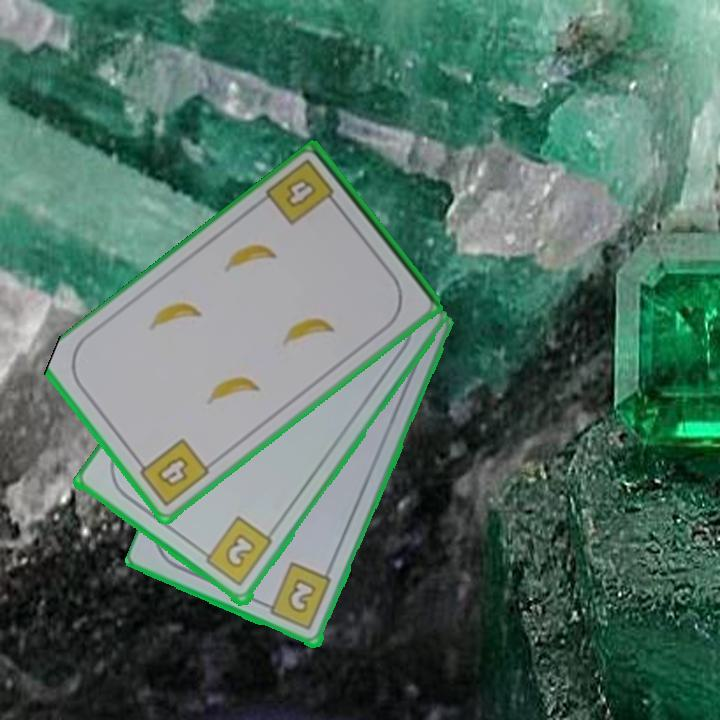2b: (195, 514, 276, 590), (259, 560, 335, 634)
4b: (132, 435, 213, 510), (262, 156, 343, 228)
